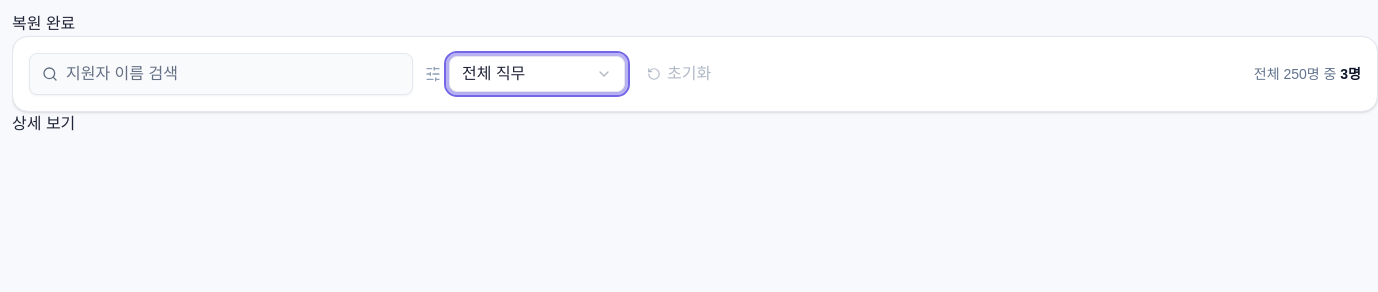
UI persistence and toolbar › supports keyboard job selection and reset
Press Enter
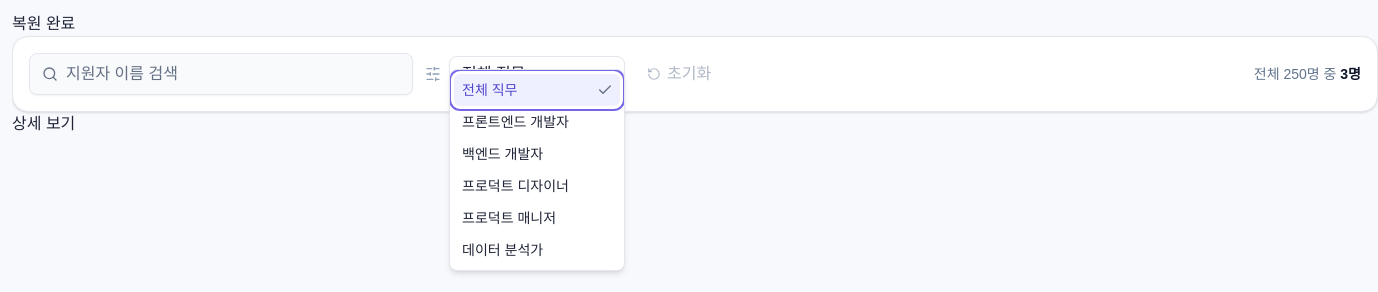
Press Arrowdown Enter
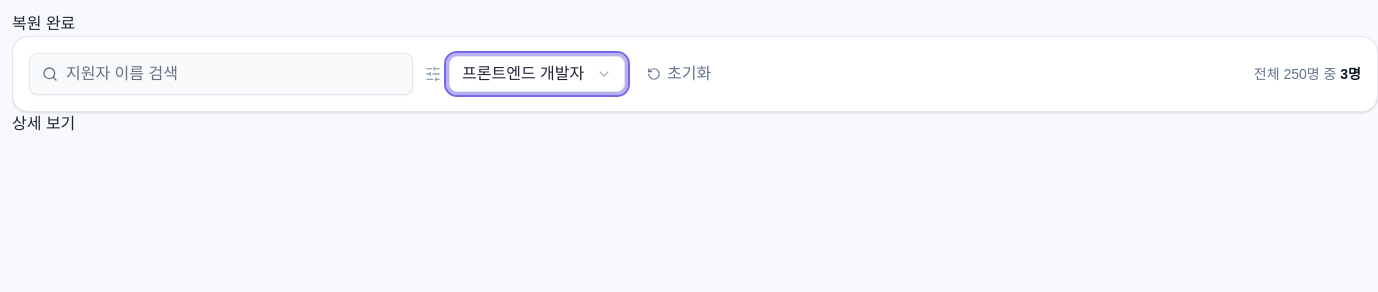
Expected: the dropdown reads "프론트엔드 개발자", x1=449 y1=56 x2=625 y2=92
Expected: the text "프론트엔드 개발자" is shown, x1=462 y1=62 x2=584 y2=86
Click the button "초기화" at [679, 74], box x1=637 y1=58 x2=721 y2=90
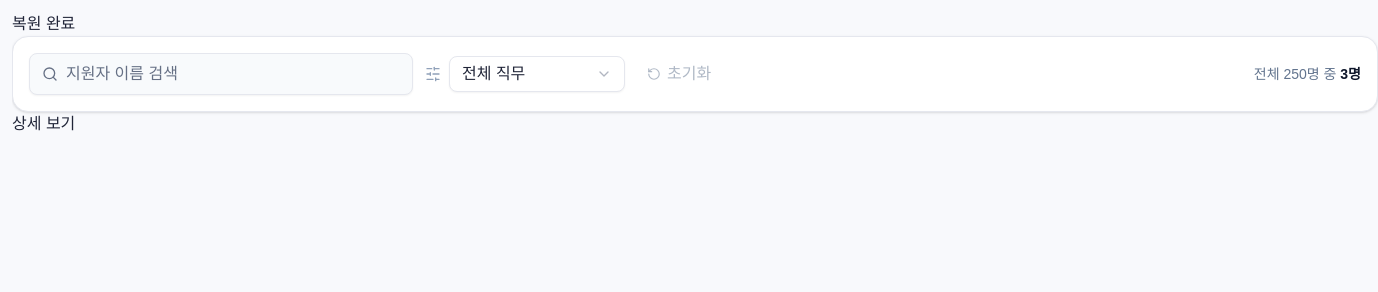
Expected: the dropdown reads "전체 직무", x1=449 y1=56 x2=625 y2=92
